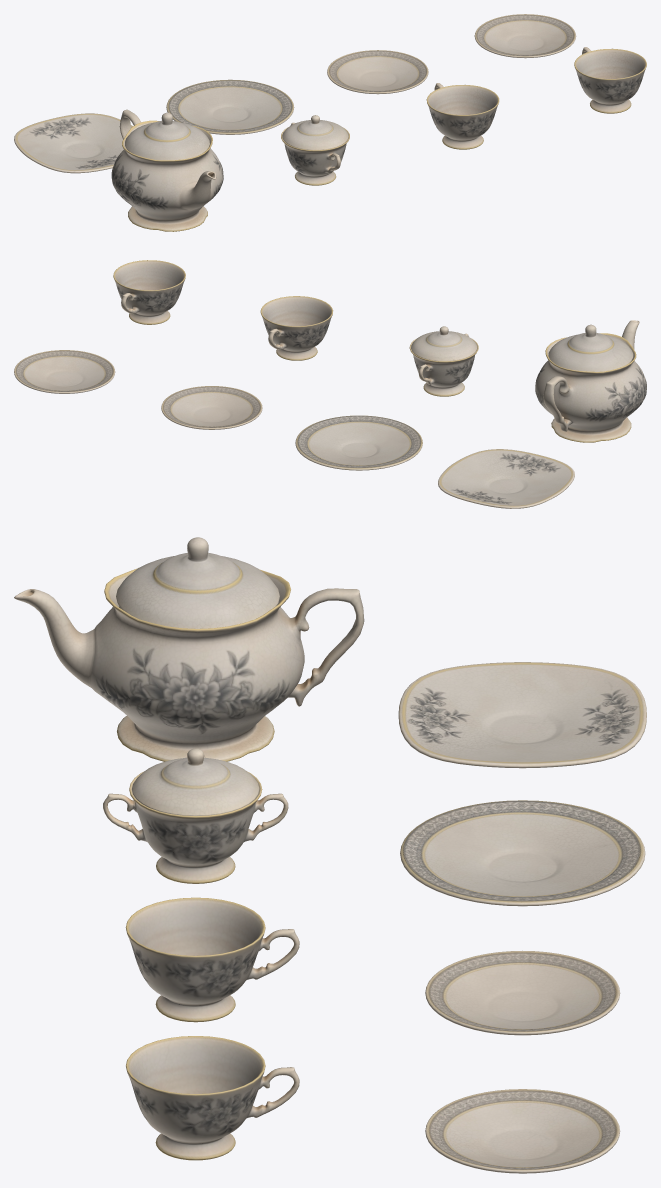
The picture shows the model from 3 angles, top to bottom: view 1: azimuth 30°, elevation 25°; view 2: azimuth 150°, elevation 25°; view 3: azimuth 270°, elevation 25°; orthographic projection. The views are drawn at different scales.
Parts seen in each view (by area): view 1: tea_set_01_teapot_01, tea_set_01_plate_large_circular_03, tea_set_01_plate_large_square_01, tea_set_01_cup_small_01, tea_set_01_cup_small_02, tea_set_01_saucer_circular_03, tea_set_01_saucer_circular_04, tea_set_01_teapot_01_lid, tea_set_01_sugar_cup_01, tea_set_01_sugar_cup_01_lid; view 2: tea_set_01_teapot_01, tea_set_01_plate_large_square_01, tea_set_01_plate_large_circular_03, tea_set_01_cup_small_01, tea_set_01_cup_small_02, tea_set_01_saucer_circular_04, tea_set_01_saucer_circular_03, tea_set_01_teapot_01_lid, tea_set_01_sugar_cup_01, tea_set_01_sugar_cup_01_lid; view 3: tea_set_01_teapot_01, tea_set_01_plate_large_square_01, tea_set_01_plate_large_circular_03, tea_set_01_cup_small_01, tea_set_01_cup_small_02, tea_set_01_saucer_circular_03, tea_set_01_saucer_circular_04, tea_set_01_teapot_01_lid, tea_set_01_sugar_cup_01, tea_set_01_sugar_cup_01_lid.
Part boxes in pixels (x1=…): tea_set_01_teapot_01: x1=111, y1=109, x2=223, y2=231; tea_set_01_plate_large_circular_03: x1=166, y1=79, x2=294, y2=134; tea_set_01_plate_large_square_01: x1=14, y1=113, x2=133, y2=173; tea_set_01_cup_small_01: x1=426, y1=83, x2=499, y2=149; tea_set_01_cup_small_02: x1=574, y1=47, x2=646, y2=113; tea_set_01_saucer_circular_03: x1=474, y1=14, x2=576, y2=58; tea_set_01_saucer_circular_04: x1=327, y1=50, x2=428, y2=94; tea_set_01_teapot_01_lid: x1=125, y1=112, x2=209, y2=160; tea_set_01_sugar_cup_01: x1=281, y1=122, x2=349, y2=185; tea_set_01_sugar_cup_01_lid: x1=282, y1=115, x2=348, y2=150; tea_set_01_teapot_01: x1=535, y1=320, x2=646, y2=442; tea_set_01_plate_large_square_01: x1=438, y1=449, x2=574, y2=508; tea_set_01_plate_large_circular_03: x1=295, y1=415, x2=422, y2=470; tea_set_01_cup_small_01: x1=260, y1=296, x2=333, y2=360; tea_set_01_cup_small_02: x1=113, y1=260, x2=185, y2=324; tea_set_01_saucer_circular_04: x1=161, y1=386, x2=262, y2=429; tea_set_01_saucer_circular_03: x1=14, y1=350, x2=115, y2=393; tea_set_01_teapot_01_lid: x1=548, y1=324, x2=633, y2=371; tea_set_01_sugar_cup_01: x1=409, y1=333, x2=478, y2=396; tea_set_01_sugar_cup_01_lid: x1=411, y1=326, x2=477, y2=361; tea_set_01_teapot_01: x1=14, y1=568, x2=364, y2=761; tea_set_01_plate_large_square_01: x1=398, y1=662, x2=646, y2=768; tea_set_01_plate_large_circular_03: x1=400, y1=800, x2=645, y2=906; tea_set_01_cup_small_01: x1=125, y1=897, x2=299, y2=1022; tea_set_01_cup_small_02: x1=126, y1=1036, x2=299, y2=1160; tea_set_01_saucer_circular_03: x1=425, y1=1089, x2=620, y2=1173; tea_set_01_saucer_circular_04: x1=425, y1=950, x2=620, y2=1035; tea_set_01_teapot_01_lid: x1=116, y1=537, x2=279, y2=628; tea_set_01_sugar_cup_01: x1=103, y1=771, x2=288, y2=883; tea_set_01_sugar_cup_01_lid: x1=131, y1=748, x2=259, y2=815.
Bounding box in the file's own units: 0.9185 × 0.165 × 0.4839.
1 material, 1 textured.
